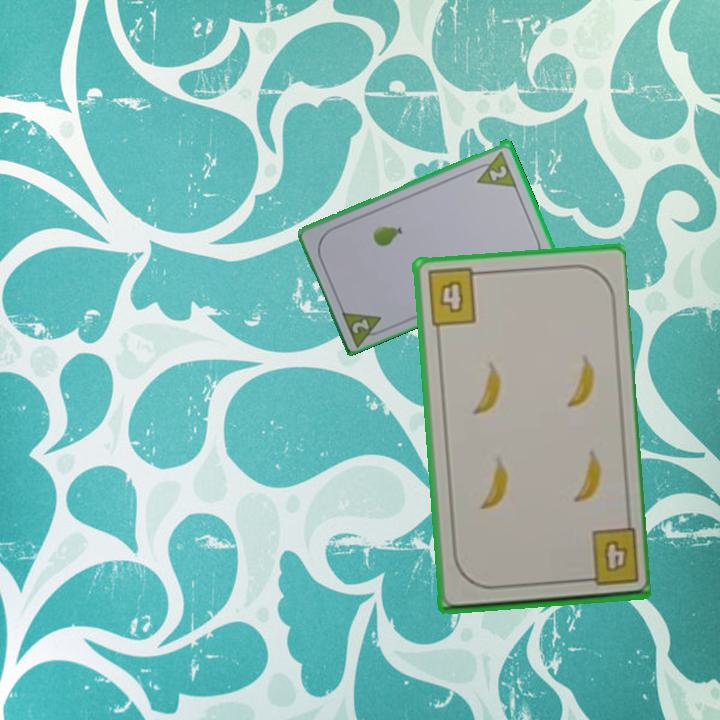2p: (486, 161, 510, 183), (348, 315, 372, 336)
4b: (576, 525, 641, 589), (423, 265, 486, 329)
